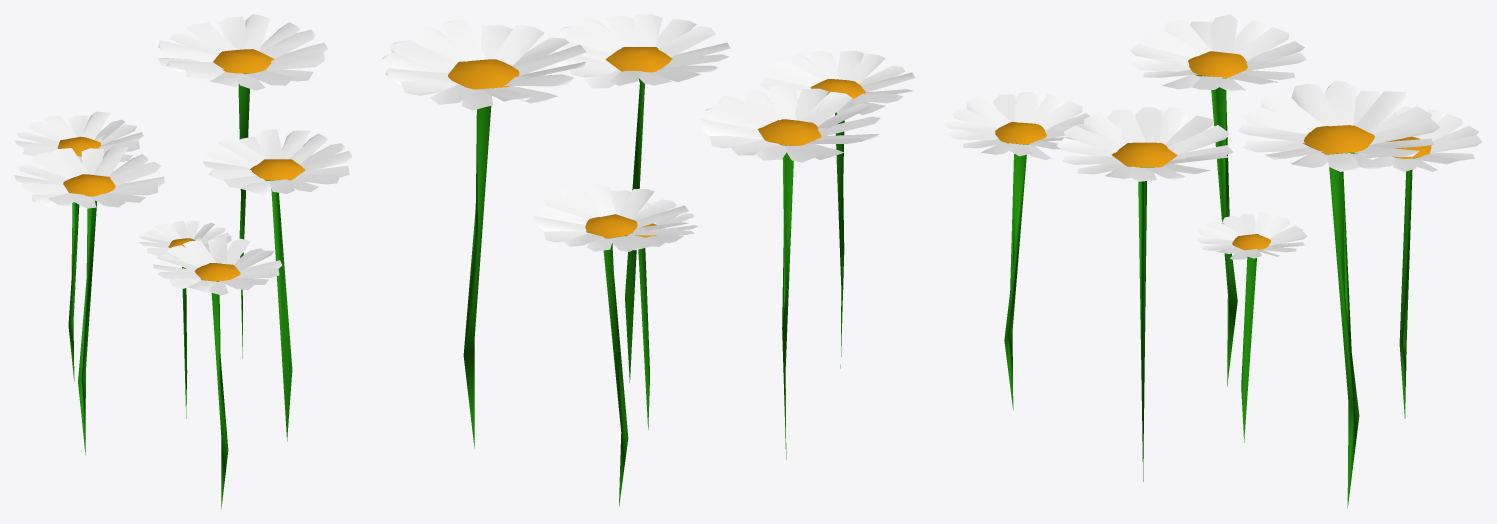
The model's file is SM_Camomile_001_LOD3.fbx.
3 renders of one model, left to right at view 1: azimuth 30°, elevation 25°; view 2: azimuth 150°, elevation 25°; view 3: azimuth 270°, elevation 25°, orthographic. The views are drawn at different scales.
Parts seen in each view (by area): view 1: Plane.018; view 2: Plane.018; view 3: Plane.018.
Part boxes in pixels (<box>): Plane.018: <box>14,14,352,509</box>; Plane.018: <box>381,14,915,506</box>; Plane.018: <box>944,14,1481,508</box>.
Bounding box in the file's own units: 37.44 × 34.1 × 43.15.
